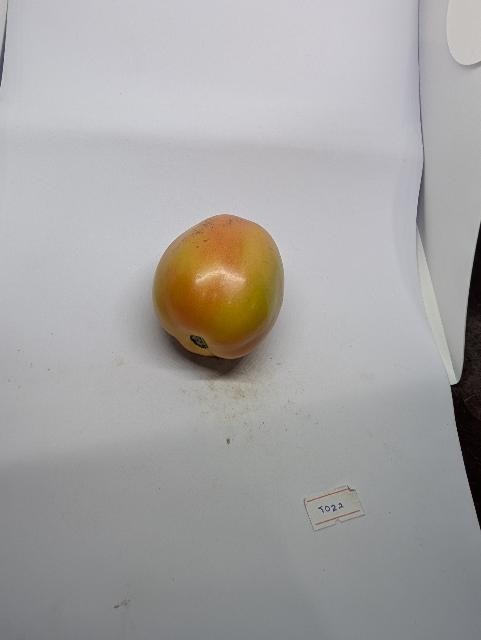turning: (146, 203, 296, 374)
